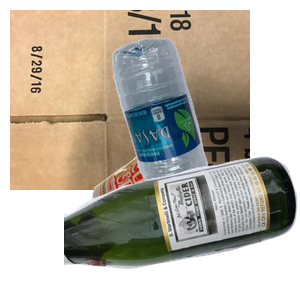cardboard: (10, 10, 250, 190)
glass: (64, 154, 300, 300)
plastic: (110, 36, 300, 216)
trash: (90, 129, 295, 300)
